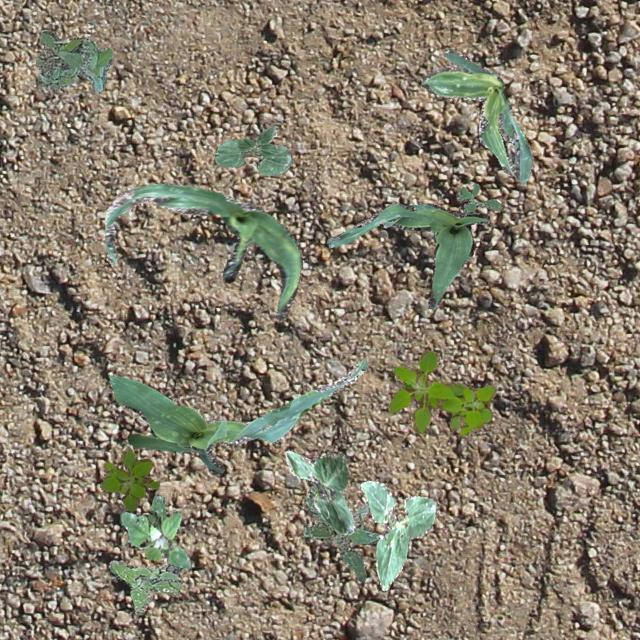crop: (108, 358, 366, 472), (104, 182, 302, 321), (326, 202, 488, 308), (420, 48, 532, 182), (360, 480, 438, 590), (284, 451, 356, 534), (214, 124, 290, 174)
weed: (388, 348, 494, 436), (302, 482, 378, 582), (120, 493, 190, 568), (34, 29, 112, 92), (108, 560, 182, 614), (98, 448, 158, 510), (456, 182, 502, 212)
